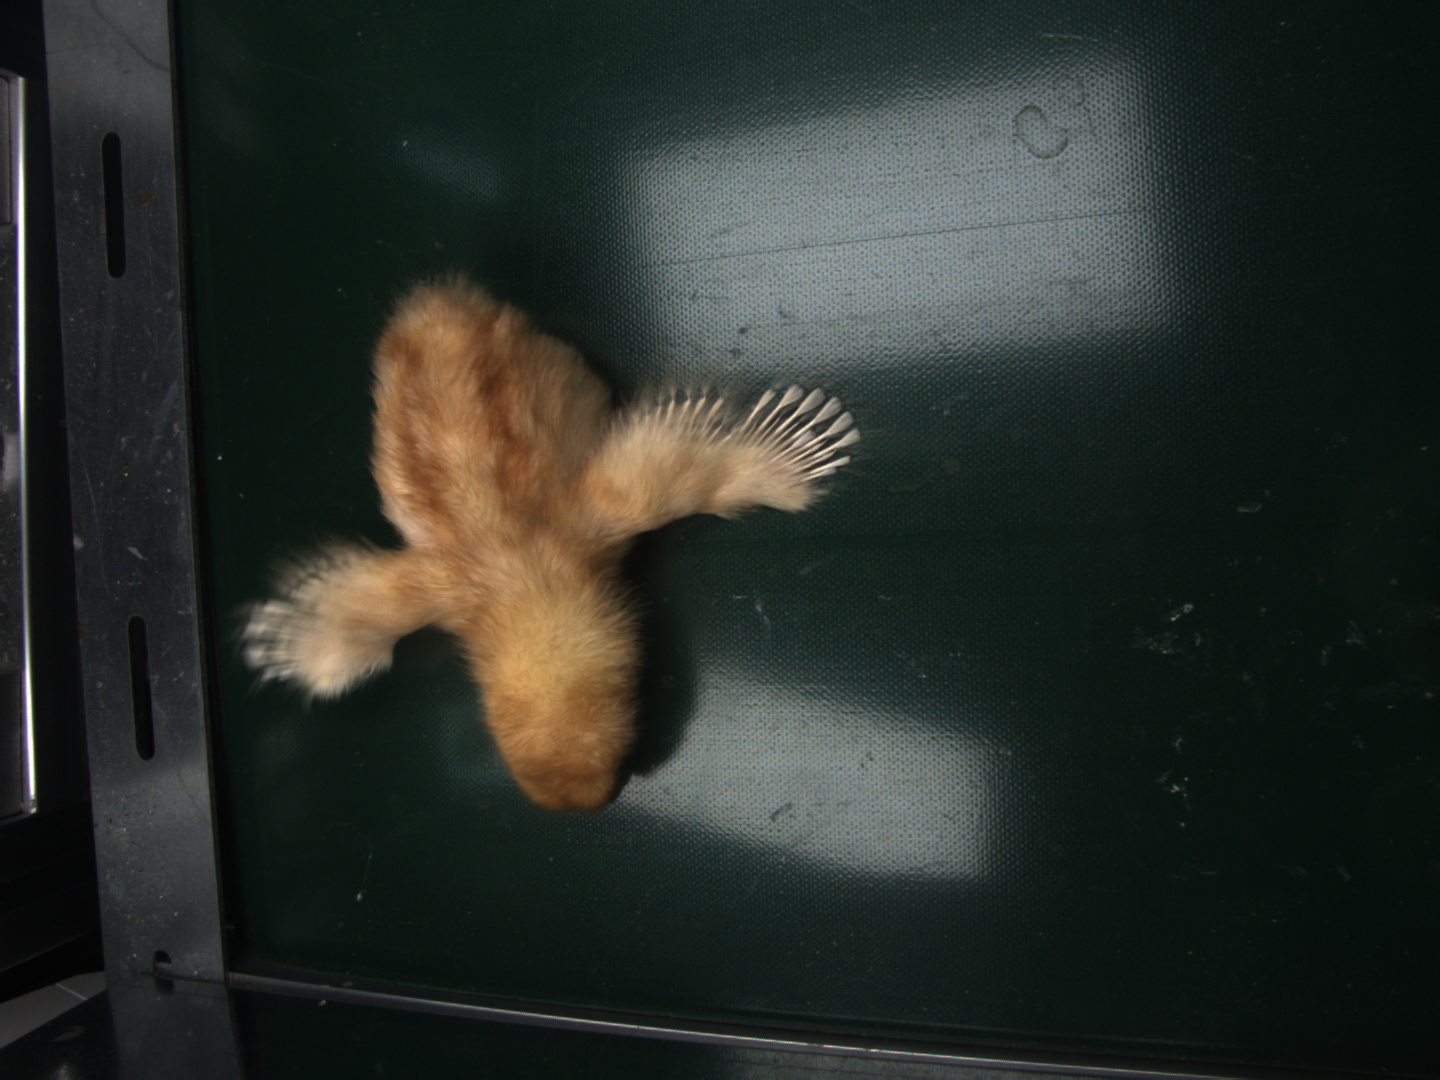female: (742, 387, 859, 476)
